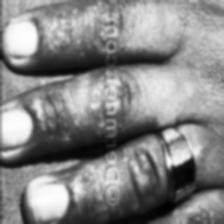Non-Cancerous Skin Condition: (92, 198, 142, 224), (82, 99, 100, 115)
